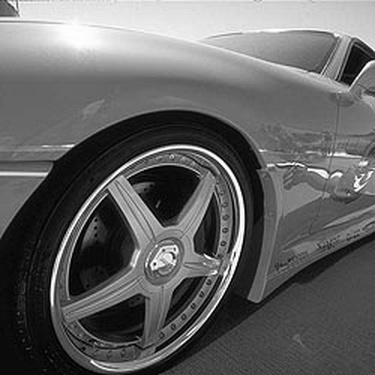car: (1, 5, 369, 373)
